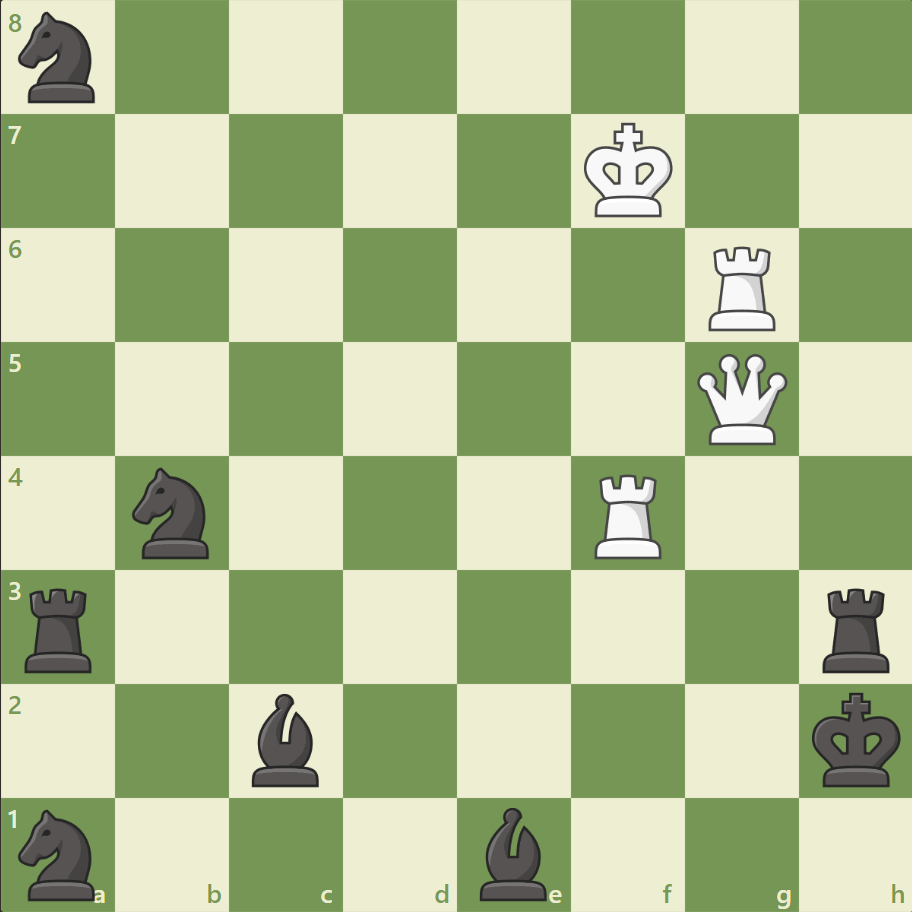K: (579, 117, 679, 225)
Q: (691, 349, 790, 449)
R: (700, 239, 783, 336), (587, 466, 670, 563)
b: (244, 687, 328, 790), (471, 801, 555, 904)
k: (806, 685, 906, 793)
n: (124, 461, 222, 564), (11, 7, 108, 110), (11, 802, 108, 904)
r: (19, 579, 102, 676), (814, 579, 897, 676)
